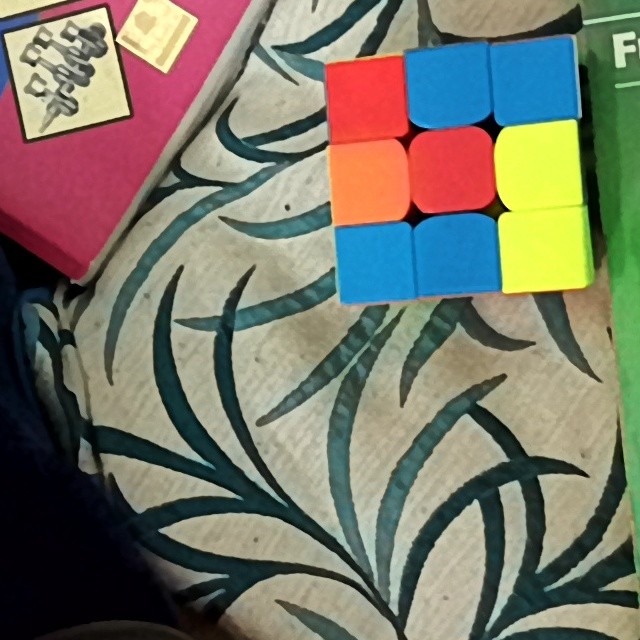tile: (498, 45, 572, 114), (507, 217, 580, 284), (417, 143, 489, 207), (414, 55, 487, 116), (424, 226, 492, 288), (335, 65, 400, 129), (338, 152, 403, 216), (506, 135, 572, 198), (345, 234, 406, 296)
